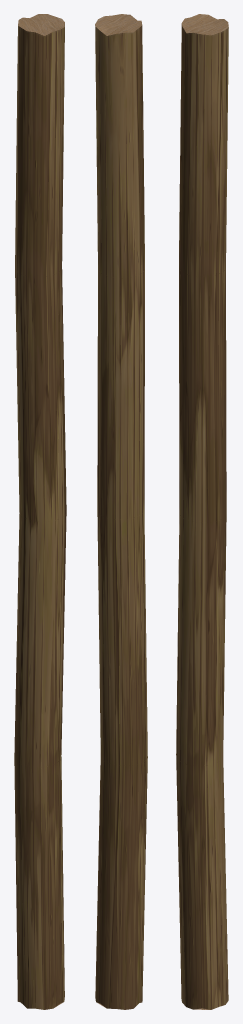
File: Branch.fbx
The picture shows the model from 3 angles, left to right: view 1: azimuth 30°, elevation 25°; view 2: azimuth 150°, elevation 25°; view 3: azimuth 330°, elevation 25°; orthographic projection.
Visible parts, largest first — view 1: Cylinder.007; view 2: Cylinder.007; view 3: Cylinder.007.
Boxes of the visible parts, x1,y1,x2,y2 form: Cylinder.007: (14,14,66,1009); Cylinder.007: (95,14,147,1009); Cylinder.007: (176,14,228,1009).
Bounding box in the file's own units: 19.57 × 400 × 19.05.
